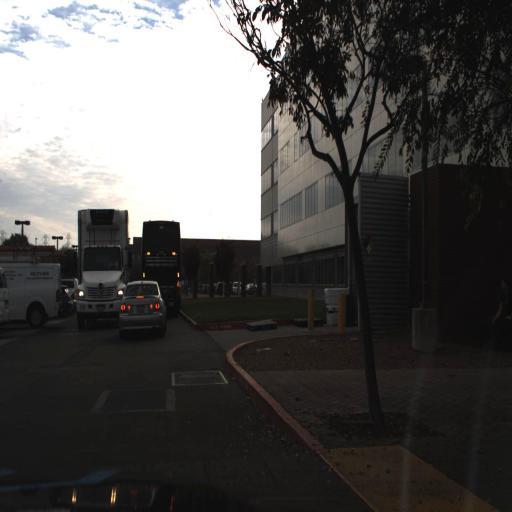car: (1, 254, 62, 334), (116, 275, 165, 332)
truck: (73, 206, 129, 330), (140, 216, 183, 308)
